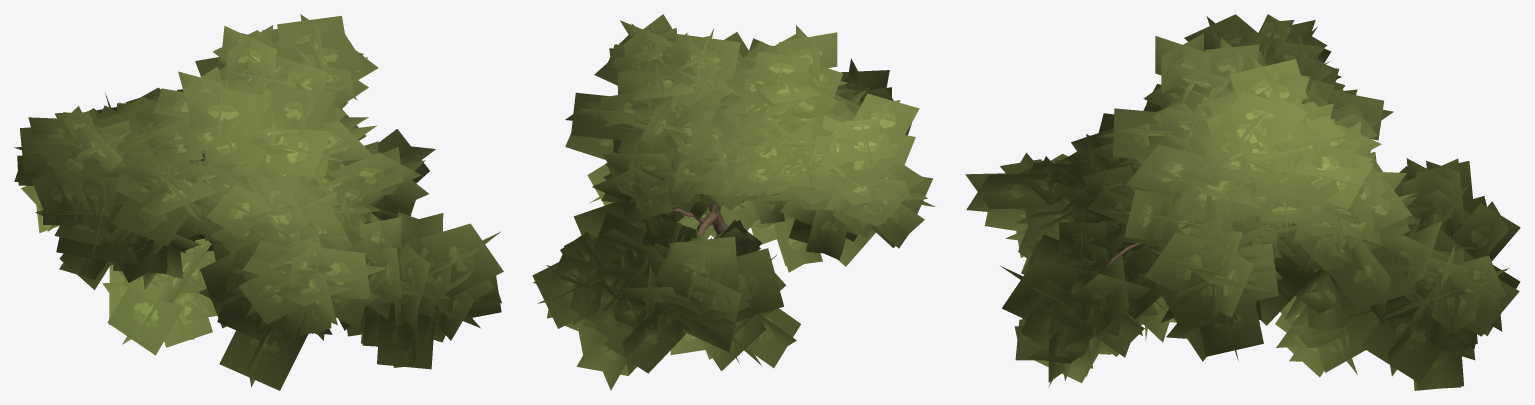
File: mezquite-alto.glb
3 renders of one model, left to right at view 1: azimuth 30°, elevation 25°; view 2: azimuth 150°, elevation 25°; view 3: azimuth 270°, elevation 25°, orthographic. The views are drawn at different scales.
Parts seen in each view (by area): view 1: mezquite; view 2: mezquite; view 3: mezquite.
Boxes of the visible parts, x1,y1,x2,y2 form: mezquite: (14, 14, 503, 390); mezquite: (532, 14, 935, 390); mezquite: (965, 14, 1520, 390).
Bounding box in the file's own units: 7.56 × 6 × 9.17.
Materials: 2 (1 with a texture image).
